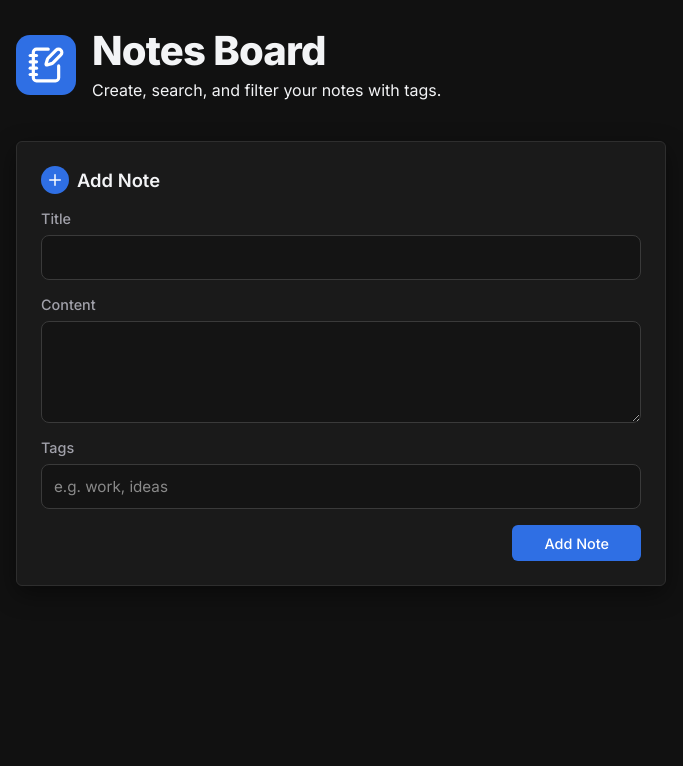
Test case: Add note without tags › adds a note when tags field is empty
Type "Note without tags" into the field labelled "Title" at (341, 258), box [41,235,641,280]
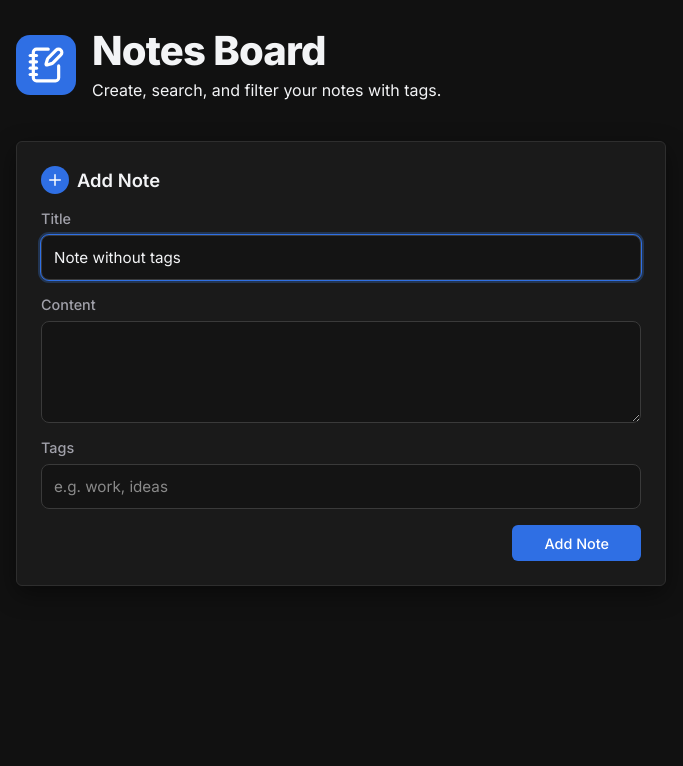
Type "This note has no tags" into the text box labelled "Content" at (341, 372), box [41,321,641,423]
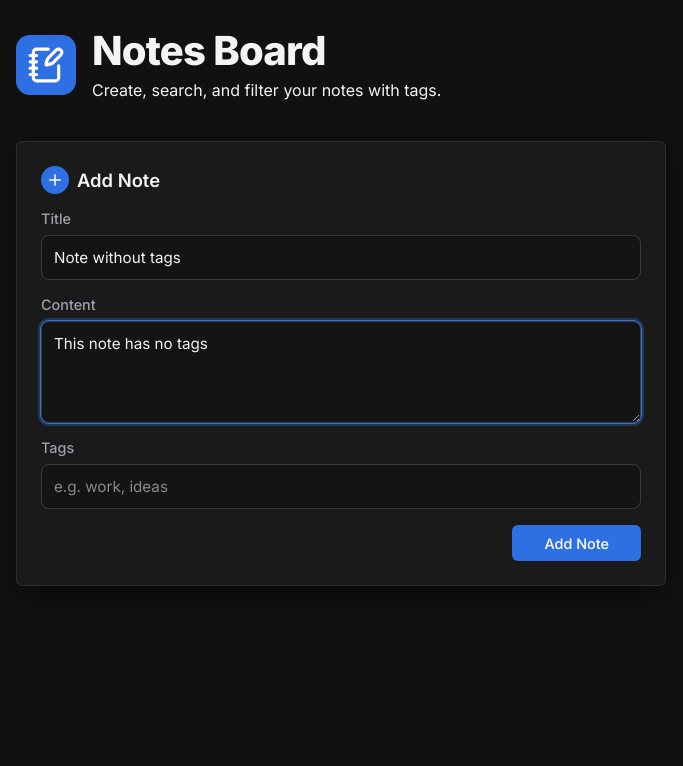
Click the button "Add Note" at (577, 543), box [512,525,641,561]
(page scrolled)
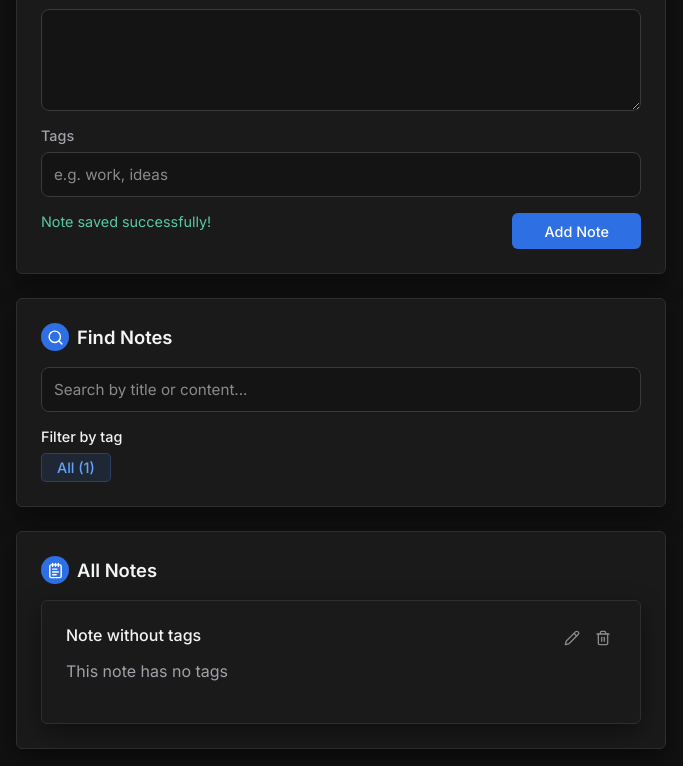
Check: the heading "Note without tags" is shown, box [66,625,201,651]
Check: the text "This note has no tags" is shown, box [66,661,228,681]
